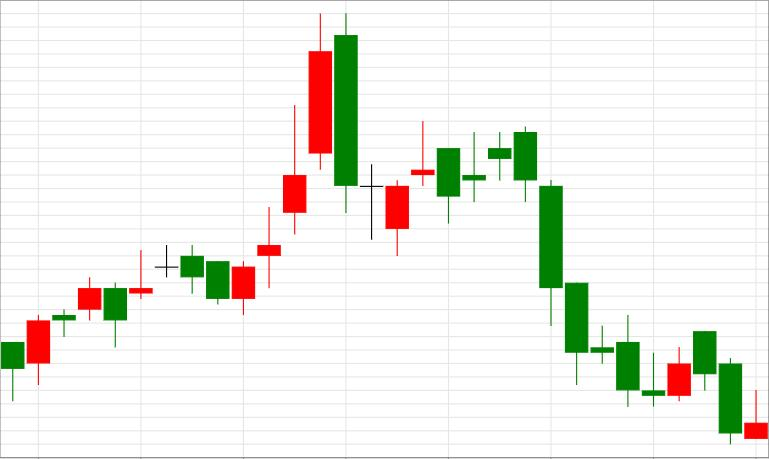bearish_engulfing_fall: (232, 14, 358, 316)
